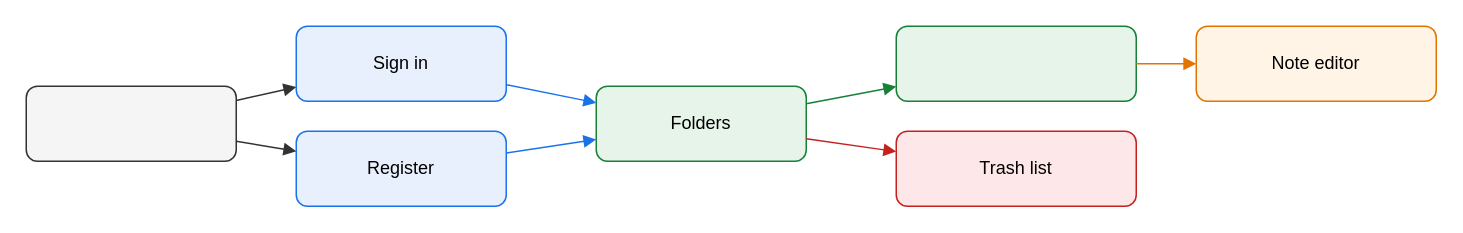
This 1463x233 diagram has some shape labels left out. Here are the shapes that lost their labels. From the top down, the centre of each, then its label:
the point at 1015,63: Notes list
the point at 130,123: Welcome
